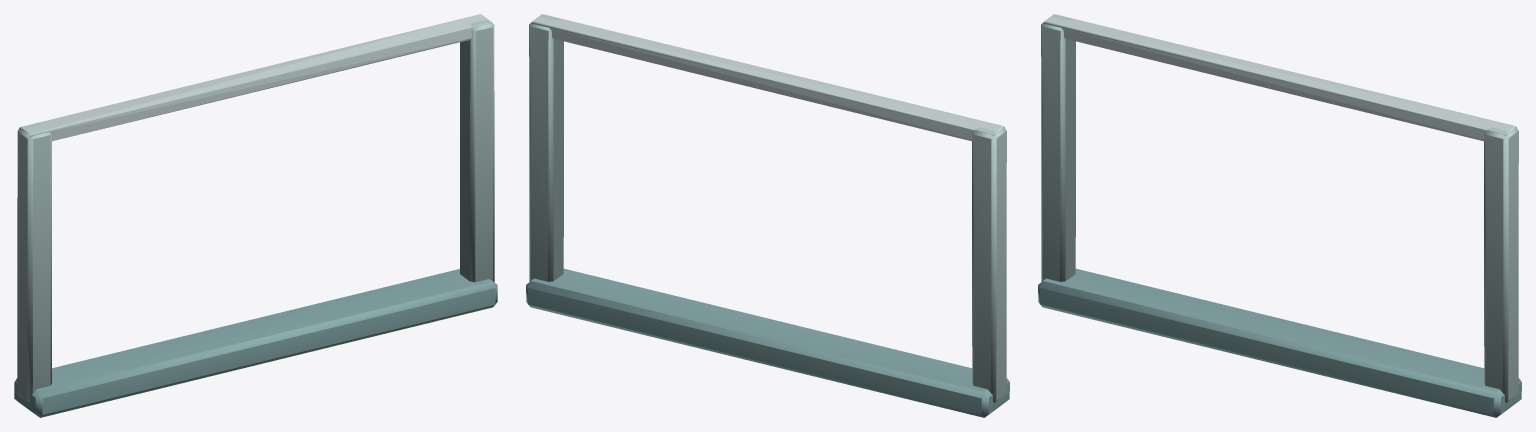
File: glass_frame.lod.glb
3 renders of one model, left to right at view 1: azimuth 30°, elevation 25°; view 2: azimuth 150°, elevation 25°; view 3: azimuth 330°, elevation 25°, orthographic.
Visible parts, largest first — view 1: glass_frame; view 2: glass_frame; view 3: glass_frame.
Boxes of the visible parts, left/top/right/bottom form: glass_frame: left=14, top=14, right=497, bottom=417; glass_frame: left=526, top=14, right=1009, bottom=417; glass_frame: left=1038, top=14, right=1521, bottom=417.
Size of the model in its own units: 4.33 by 2.49 by 0.4234.
